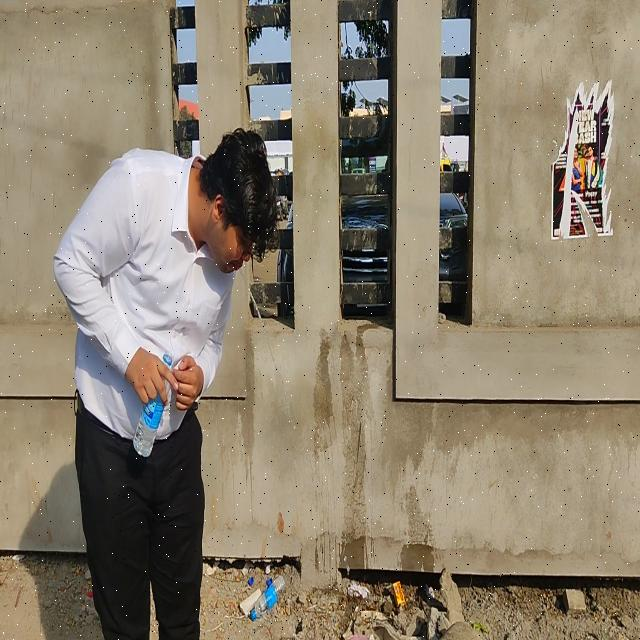spit: (180, 89, 363, 607)
